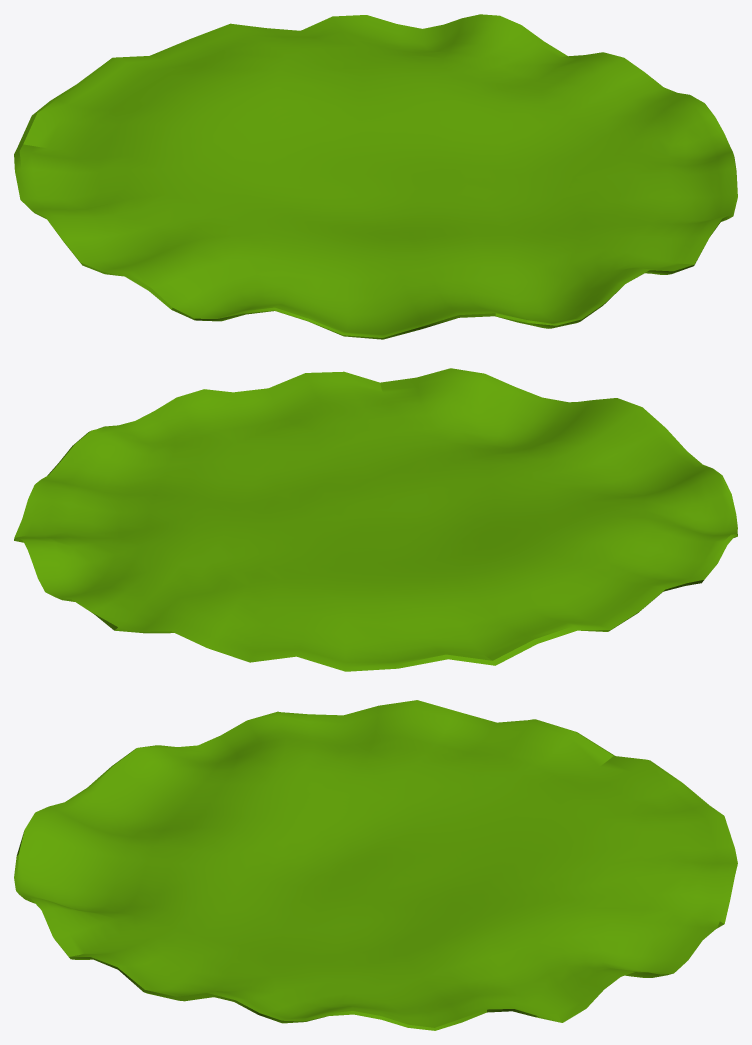
File: itemNormal05.fbx
3 views of the same model, one above another, from view 1: azimuth 30°, elevation 25°; view 2: azimuth 150°, elevation 25°; view 3: azimuth 270°, elevation 25° (orthographic). The views are drawn at different scales.
Parts seen in each view (by area): view 1: Lettuce; view 2: Lettuce; view 3: Lettuce.
Boxes of the visible parts, box(x1,y1,x2,y2) form: Lettuce: box(14, 14, 737, 339); Lettuce: box(14, 368, 737, 671); Lettuce: box(14, 700, 737, 1030).
Size of the model in its own units: 216 by 17.78 by 218.
